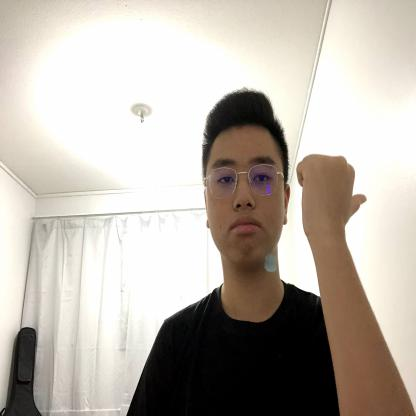left: (296, 153, 370, 242)
